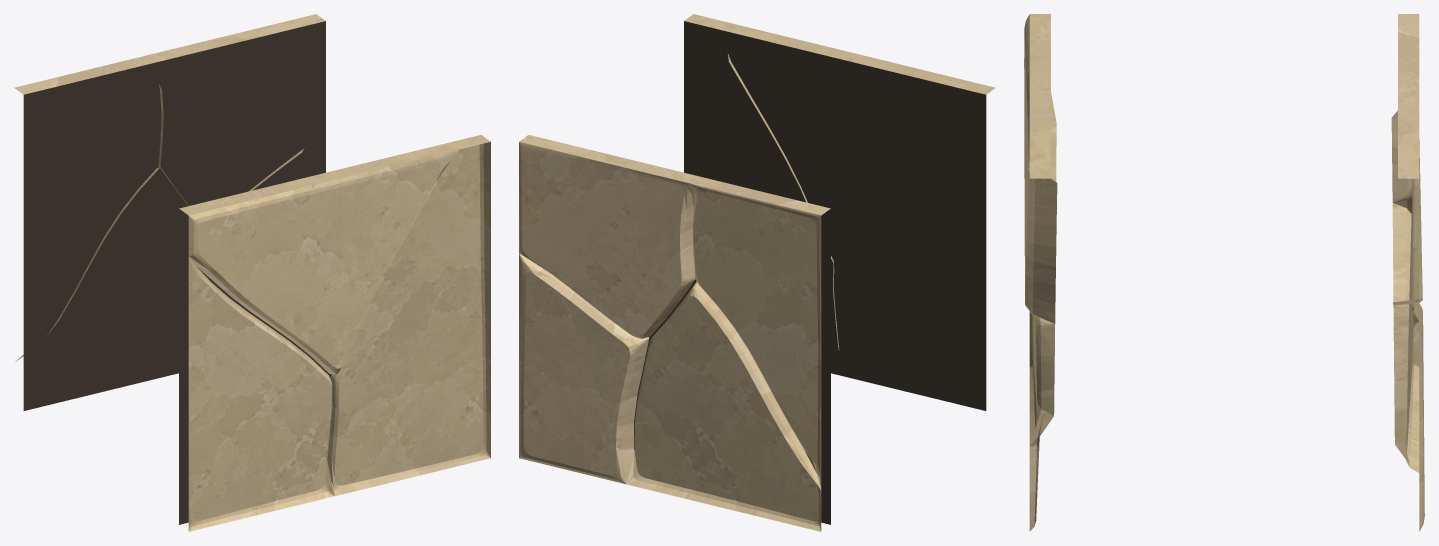
File: ground_square_strip_01.glb
3 views of the same model, side by side, from view 1: azimuth 30°, elevation 25°; view 2: azimuth 150°, elevation 25°; view 3: azimuth 270°, elevation 25° (orthographic). The views are drawn at different scales.
Visible parts, largest first — view 1: GroundSquareStrip01_Body; view 2: GroundSquareStrip01_Body; view 3: GroundSquareStrip01_Body.
Boxes of the visible parts, box(x1,y1,x2,y2) form: GroundSquareStrip01_Body: box(14, 14, 490, 531); GroundSquareStrip01_Body: box(519, 14, 995, 531); GroundSquareStrip01_Body: box(1024, 14, 1424, 531).
Bounding box in the file's own units: 1 × 1 × 1.03.
9 materials, 8 textured.
